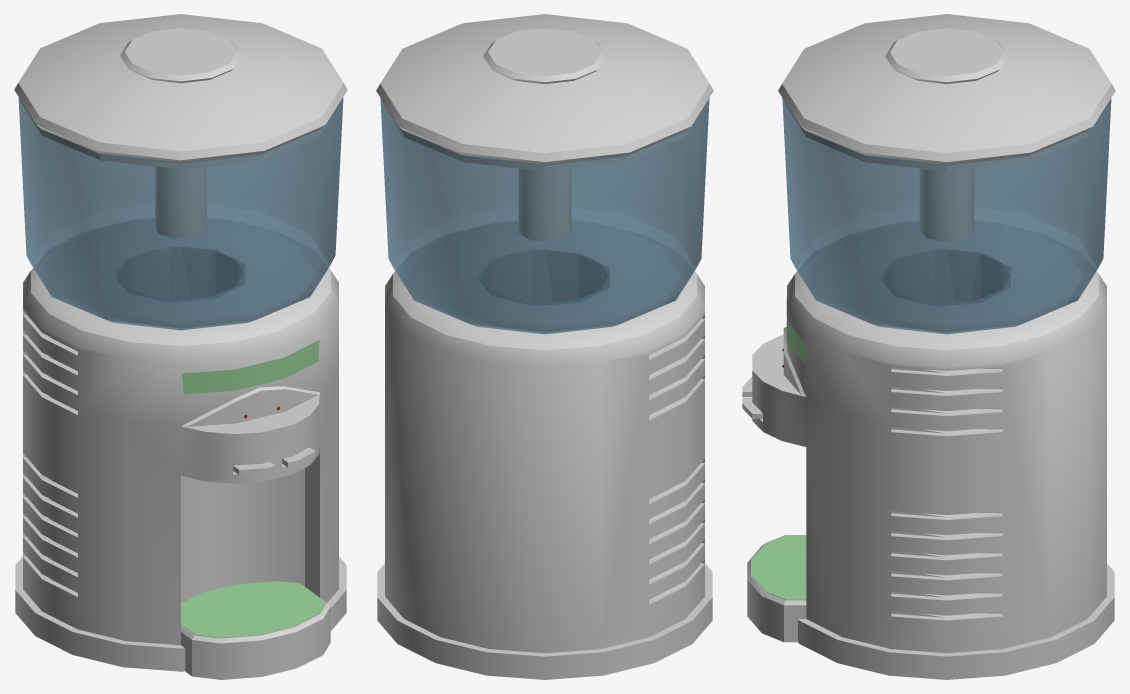
3 views of the same model, side by side, from view 1: azimuth 30°, elevation 25°; view 2: azimuth 150°, elevation 25°; view 3: azimuth 270°, elevation 25° (orthographic).
Visible parts, largest first — view 1: YR5TT28; view 2: YR5TT28; view 3: YR5TT28.
Boxes of the visible parts, <box> form: YR5TT28: <box>14,14,347,679</box>; YR5TT28: <box>376,14,713,679</box>; YR5TT28: <box>742,14,1115,679</box>.
Size of the model in its own units: 25.01 by 27.42 by 45.02.
